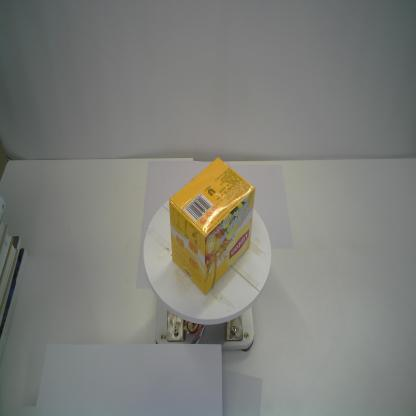Instant Drink: (168, 155, 256, 296)
